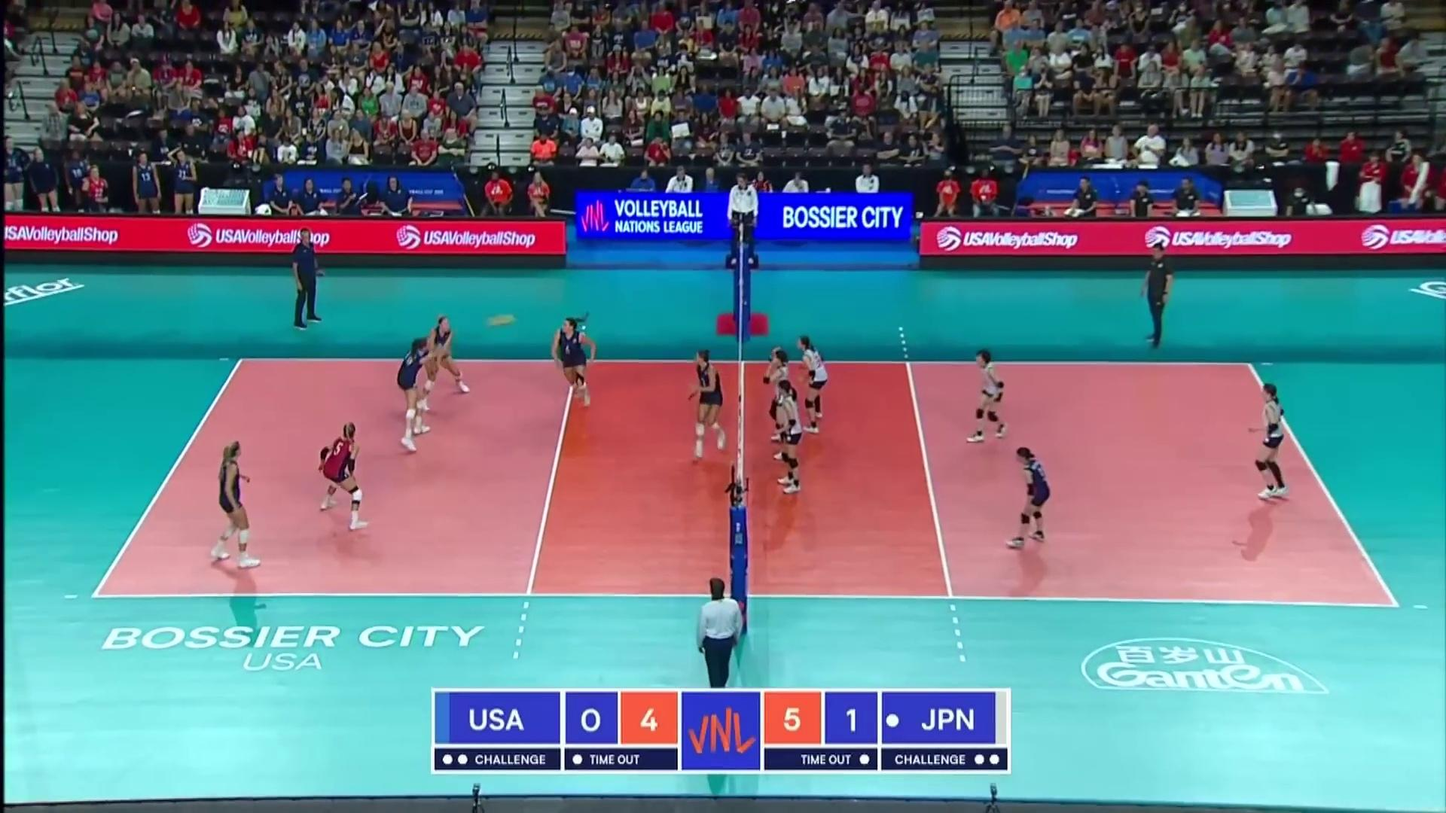player: (210, 442, 263, 569), (318, 419, 369, 531), (1251, 384, 1290, 504), (423, 314, 470, 411), (396, 336, 435, 452), (555, 314, 597, 406), (796, 335, 833, 436), (1013, 447, 1051, 545), (767, 346, 798, 459), (970, 350, 1008, 441), (693, 349, 725, 457), (776, 381, 806, 493)
refree: (694, 577, 749, 689), (729, 174, 760, 266)
